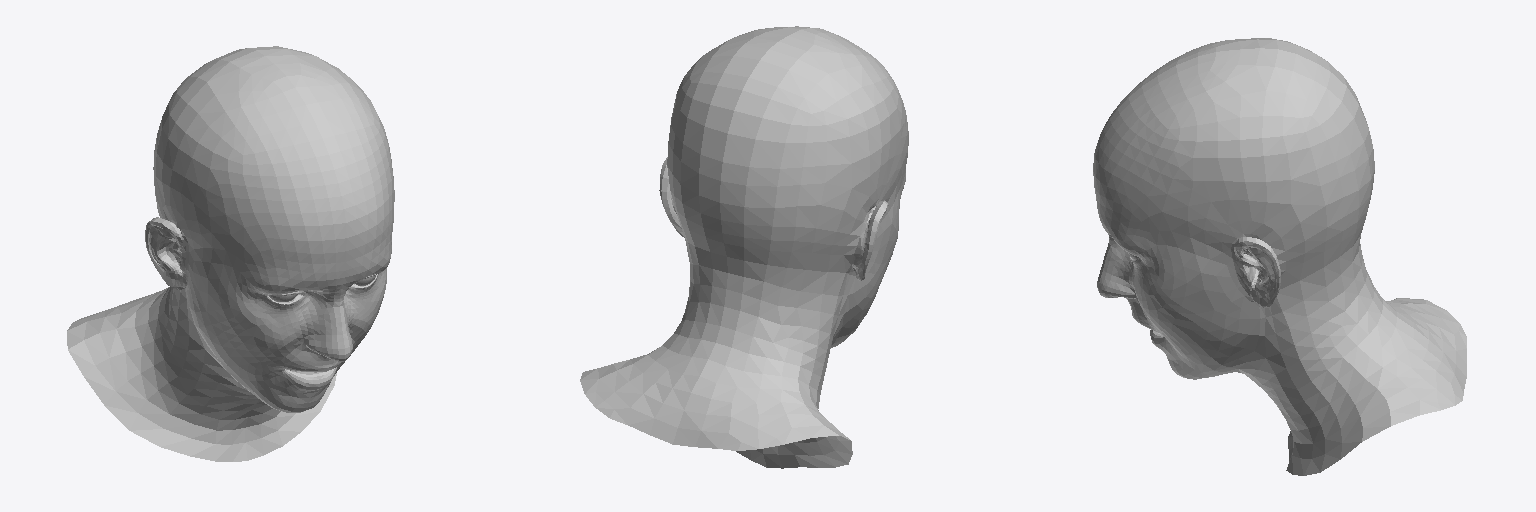
File: 00041_w_HIFI3D_UV.obj
3 views of the same model, side by side, from view 1: azimuth 30°, elevation 25°; view 2: azimuth 150°, elevation 25°; view 3: azimuth 270°, elevation 25° (orthographic).
Size of the model in its own units: 0.2097 by 0.3204 by 0.2617.